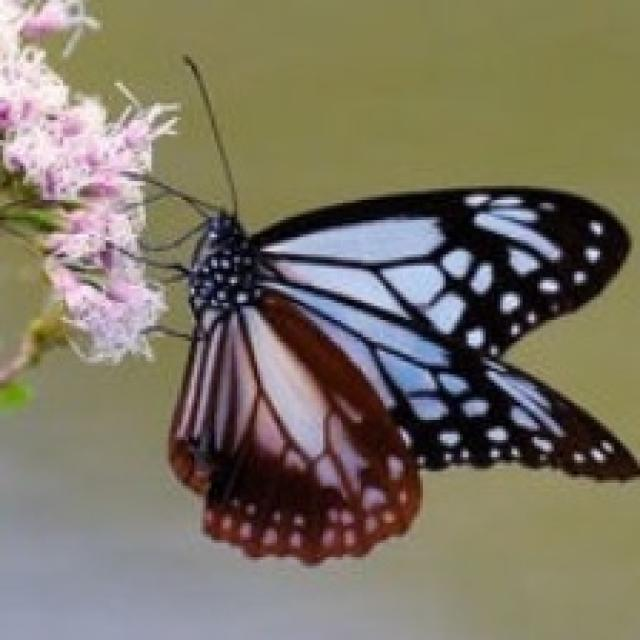butterfly: (103, 48, 637, 566)
